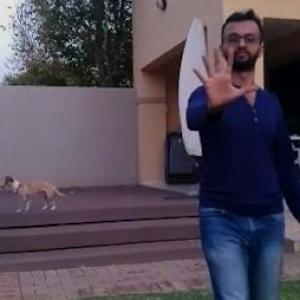follow_hand: (188, 41, 261, 111)
